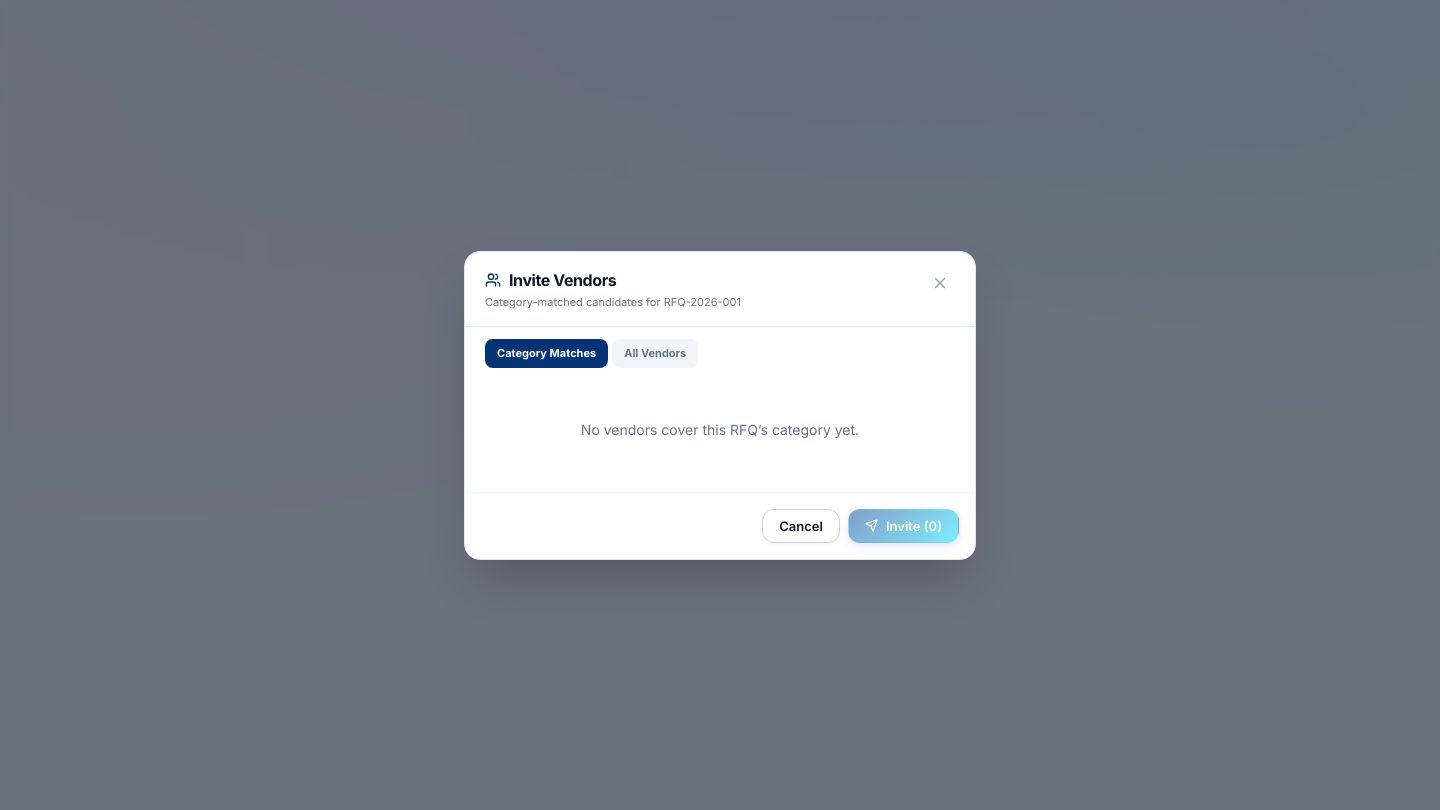
Scenario: InviteVendorsModal — All Vendors tab › shows an error state when the all-vendors fetch fails, falling back to the default message
Expected: the text "No vendors cover this RFQ’s category yet." is shown, [581,420,859,438]
Click the button with test id "invite-tab-all".
click(655, 353)  # box [612,339,698,368]
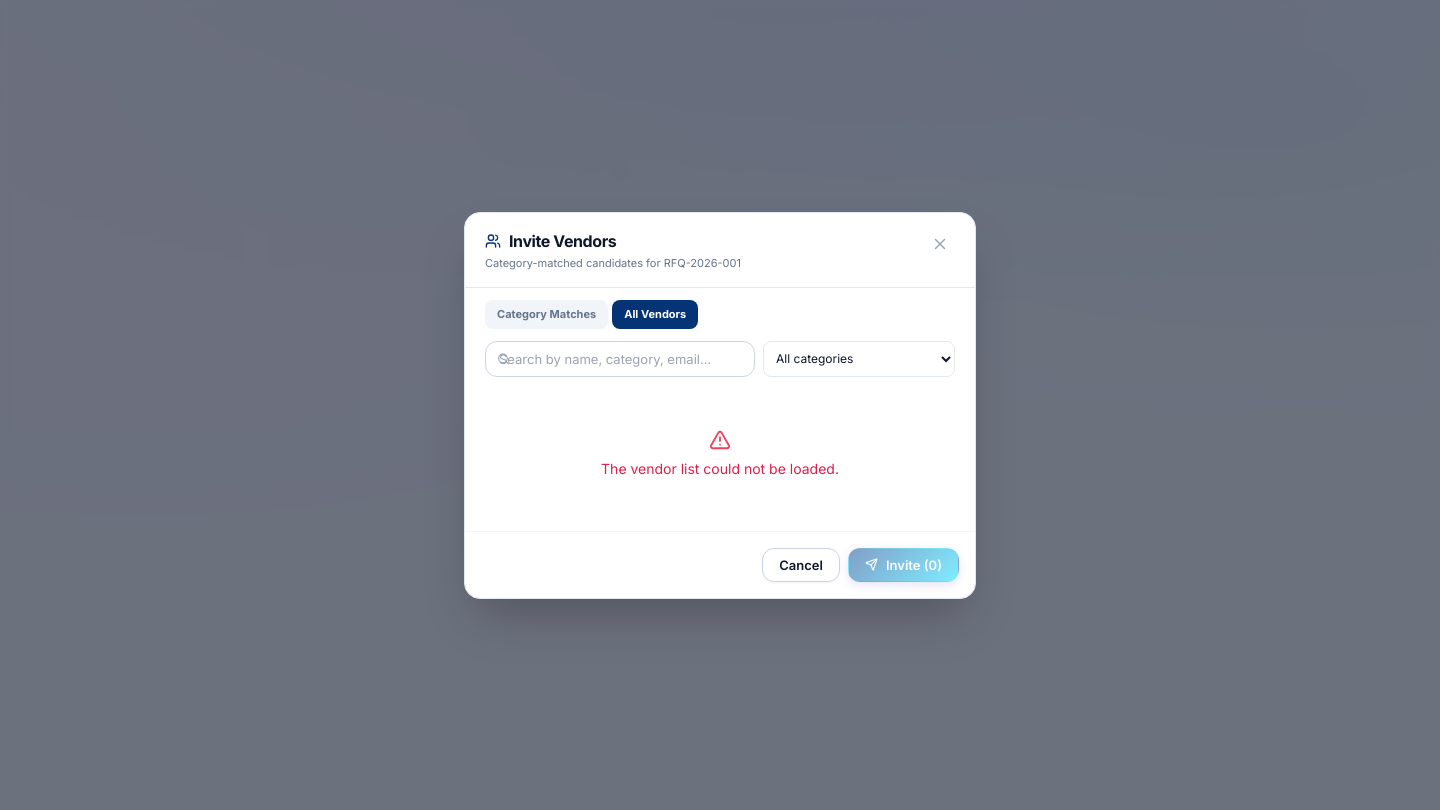
Expected: the text "The vendor list could not be loaded." is shown, [601,458,839,478]
